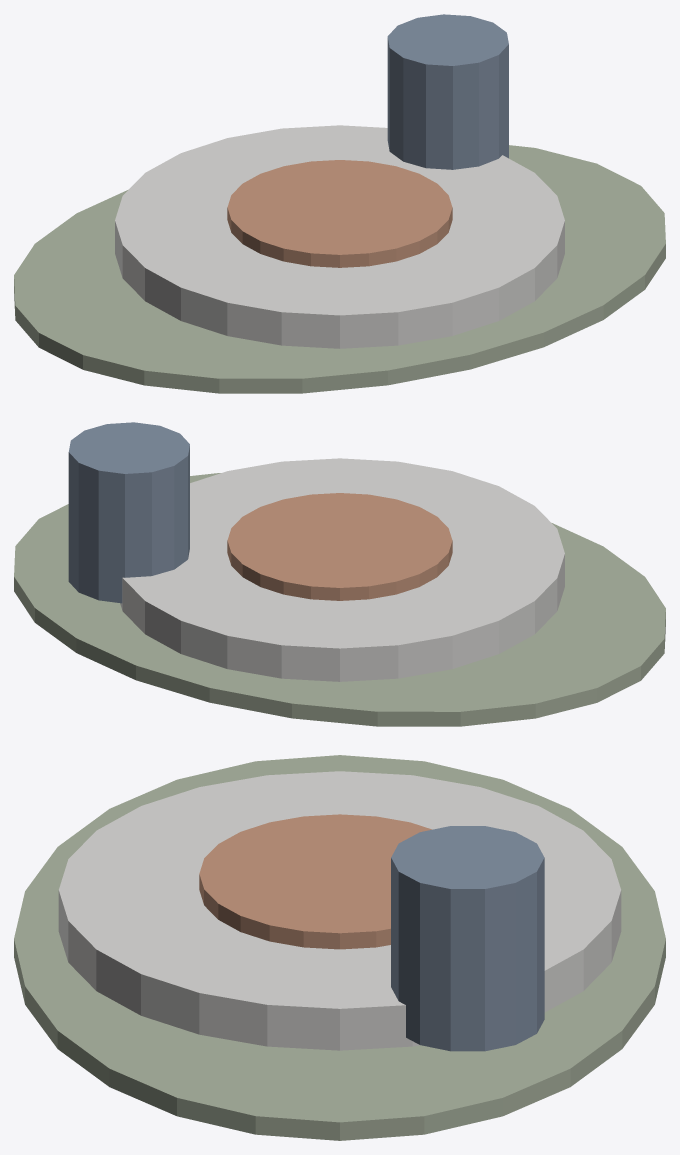
File: mesa_jogo_sala2.glb
3 renders of one model, top to bottom at view 1: azimuth 30°, elevation 25°; view 2: azimuth 150°, elevation 25°; view 3: azimuth 270°, elevation 25°, orthographic. The views are drawn at different scales.
Visible parts, largest first — view 1: MESA_JogoSala2_Prato, MESA_JogoSala2_Tapetinho, MESA_JogoSala2_Centro, MESA_JogoSala2_Copo; view 2: MESA_JogoSala2_Prato, MESA_JogoSala2_Tapetinho, MESA_JogoSala2_Centro, MESA_JogoSala2_Copo; view 3: MESA_JogoSala2_Prato, MESA_JogoSala2_Tapetinho, MESA_JogoSala2_Copo, MESA_JogoSala2_Centro.
Boxes of the visible parts, bbox=[...] form: MESA_JogoSala2_Prato: bbox=[115, 125, 564, 348]; MESA_JogoSala2_Tapetinho: bbox=[14, 145, 665, 393]; MESA_JogoSala2_Centro: bbox=[227, 160, 452, 267]; MESA_JogoSala2_Copo: bbox=[387, 14, 508, 169]; MESA_JogoSala2_Prato: bbox=[120, 458, 564, 681]; MESA_JogoSala2_Tapetinho: bbox=[14, 473, 665, 726]; MESA_JogoSala2_Centro: bbox=[227, 493, 452, 600]; MESA_JogoSala2_Copo: bbox=[68, 422, 189, 603]; MESA_JogoSala2_Prato: bbox=[58, 771, 621, 1050]; MESA_JogoSala2_Tapetinho: bbox=[14, 755, 665, 1140]; MESA_JogoSala2_Copo: bbox=[391, 826, 544, 1051]; MESA_JogoSala2_Centro: bbox=[199, 814, 431, 949].
Size of the model in its own units: 0.34 by 0.085 by 0.255.
